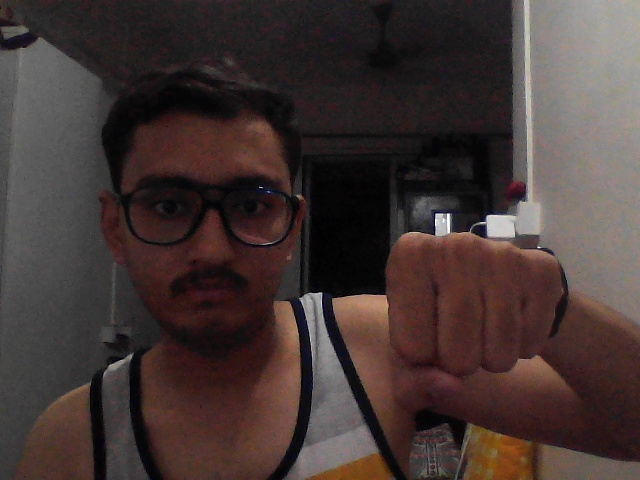Yes: (376, 197, 599, 410)
